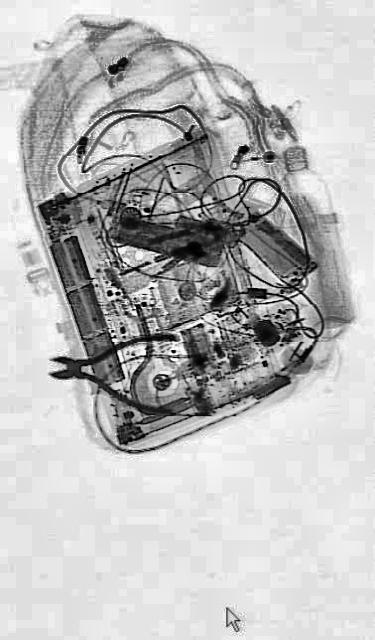Pliers: (48, 324, 178, 414)
